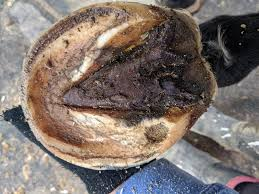horsesole: (20, 1, 197, 171)
